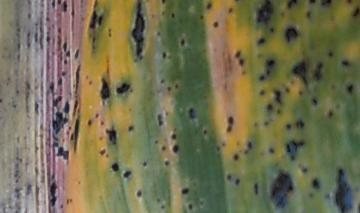tarspot: (270, 173, 295, 209), (336, 168, 354, 213), (132, 1, 144, 55), (256, 1, 273, 24), (293, 62, 308, 86), (52, 112, 68, 131), (100, 78, 110, 100), (285, 26, 298, 42), (105, 128, 117, 145), (56, 146, 69, 160), (74, 62, 80, 92), (50, 181, 57, 206), (90, 10, 98, 30), (291, 139, 304, 151), (74, 121, 79, 152), (315, 61, 323, 80), (116, 84, 131, 93), (274, 89, 283, 104), (156, 113, 164, 127), (110, 161, 119, 173), (72, 98, 78, 116), (52, 133, 59, 148), (295, 119, 305, 128), (287, 1, 298, 9), (188, 108, 195, 120), (53, 96, 62, 105), (320, 1, 333, 7), (63, 103, 70, 114), (311, 95, 318, 106), (313, 179, 320, 190), (74, 48, 80, 60), (324, 193, 333, 201), (123, 171, 132, 179), (62, 1, 68, 12), (49, 81, 55, 92), (353, 8, 360, 17), (341, 60, 350, 67), (107, 26, 112, 38), (348, 84, 354, 94), (285, 142, 291, 152), (254, 183, 259, 195), (99, 148, 106, 156), (267, 59, 274, 67), (266, 103, 273, 111), (329, 83, 336, 91), (206, 2, 212, 11), (180, 188, 189, 194), (187, 202, 193, 211), (62, 41, 67, 51), (68, 133, 75, 140), (285, 123, 292, 130), (44, 35, 51, 42), (65, 49, 71, 57), (257, 38, 265, 44), (259, 88, 265, 96), (227, 116, 233, 124), (226, 124, 232, 132), (328, 110, 333, 119), (99, 15, 103, 26), (213, 21, 219, 28), (127, 125, 134, 131), (94, 112, 100, 119), (228, 7, 234, 14), (263, 120, 269, 127), (226, 174, 232, 181), (198, 200, 205, 206), (136, 190, 142, 197), (180, 39, 185, 47), (173, 145, 178, 153), (171, 134, 177, 140), (164, 160, 170, 166), (99, 120, 105, 126), (57, 78, 63, 84), (235, 52, 241, 58), (307, 1, 316, 5), (306, 12, 312, 18), (233, 154, 239, 160), (215, 146, 221, 152), (290, 154, 296, 160), (252, 122, 258, 128), (279, 12, 285, 18), (160, 10, 166, 16), (51, 1, 56, 8), (87, 119, 92, 126), (285, 86, 290, 93), (276, 107, 281, 114), (247, 141, 252, 148), (243, 148, 248, 155), (302, 166, 307, 173), (235, 179, 240, 186), (66, 198, 73, 203), (88, 79, 93, 86), (199, 14, 204, 20), (167, 86, 172, 92), (139, 55, 144, 61), (133, 58, 139, 63), (142, 161, 147, 167), (202, 129, 207, 135), (61, 71, 67, 76), (328, 51, 333, 57), (259, 75, 265, 80), (299, 90, 304, 96), (269, 148, 275, 153), (309, 192, 314, 198), (156, 197, 161, 203), (266, 68, 270, 75), (92, 36, 96, 43), (161, 146, 166, 151), (154, 140, 159, 145), (174, 84, 179, 89), (270, 27, 275, 32), (241, 70, 246, 75), (98, 136, 103, 141), (163, 51, 167, 57), (171, 12, 175, 18), (64, 59, 68, 65), (60, 203, 64, 209), (58, 1, 63, 5), (161, 79, 165, 84), (157, 31, 161, 36), (240, 60, 244, 65), (162, 1, 166, 5), (161, 205, 165, 209), (347, 1, 352, 4), (222, 142, 225, 147), (1, 99, 3, 103)
